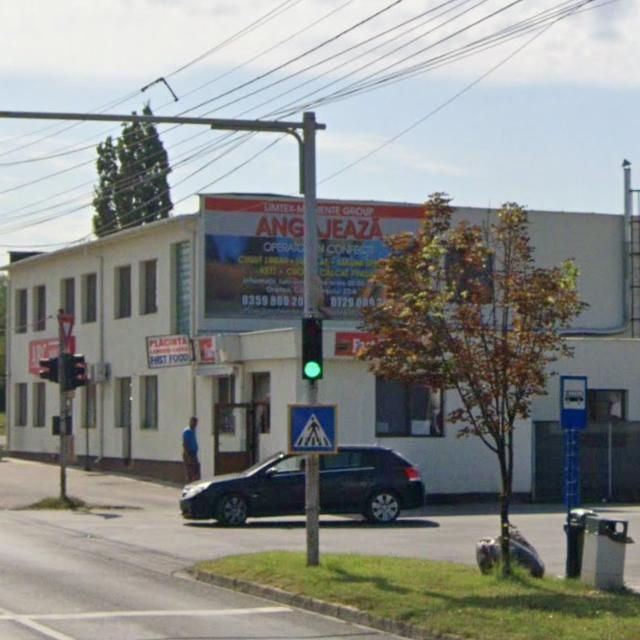info_crosswalk: (289, 403, 337, 454)
